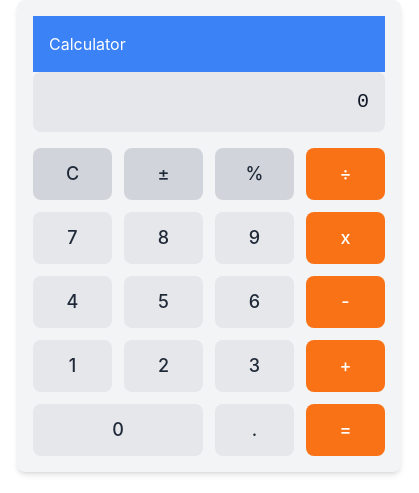
Calculator › should minus two numbers correctly
This screenshot has width=419, height=493.
Click the button "8" at [164, 238], box [124, 212, 203, 264]
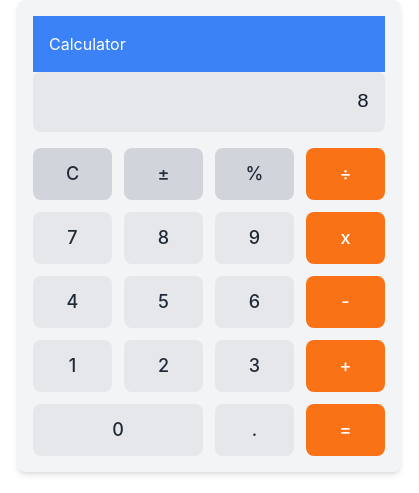
Click the button "-" at [346, 302], box [306, 276, 385, 328]
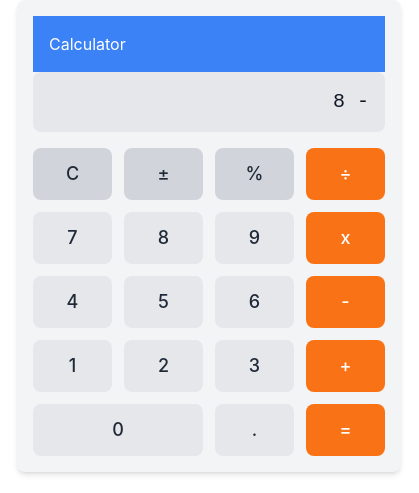
Click the button "2" at [164, 366], box [124, 340, 203, 392]
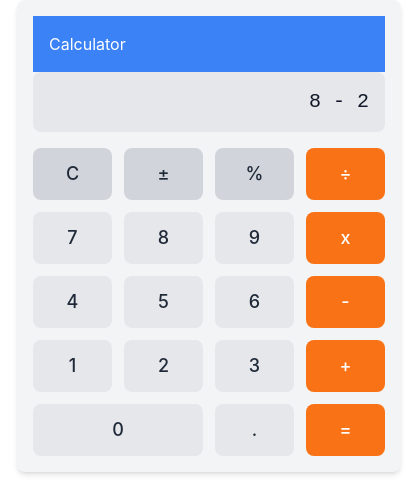
Click the button with test id "equalButton" at [346, 430], box [306, 404, 385, 456]
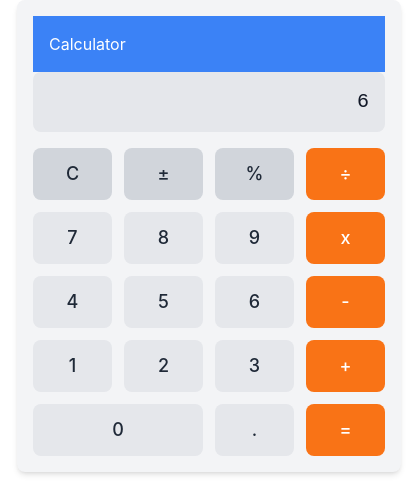
Check: the text with test id "calcDisplay" reads "6", box [357, 90, 369, 113]
